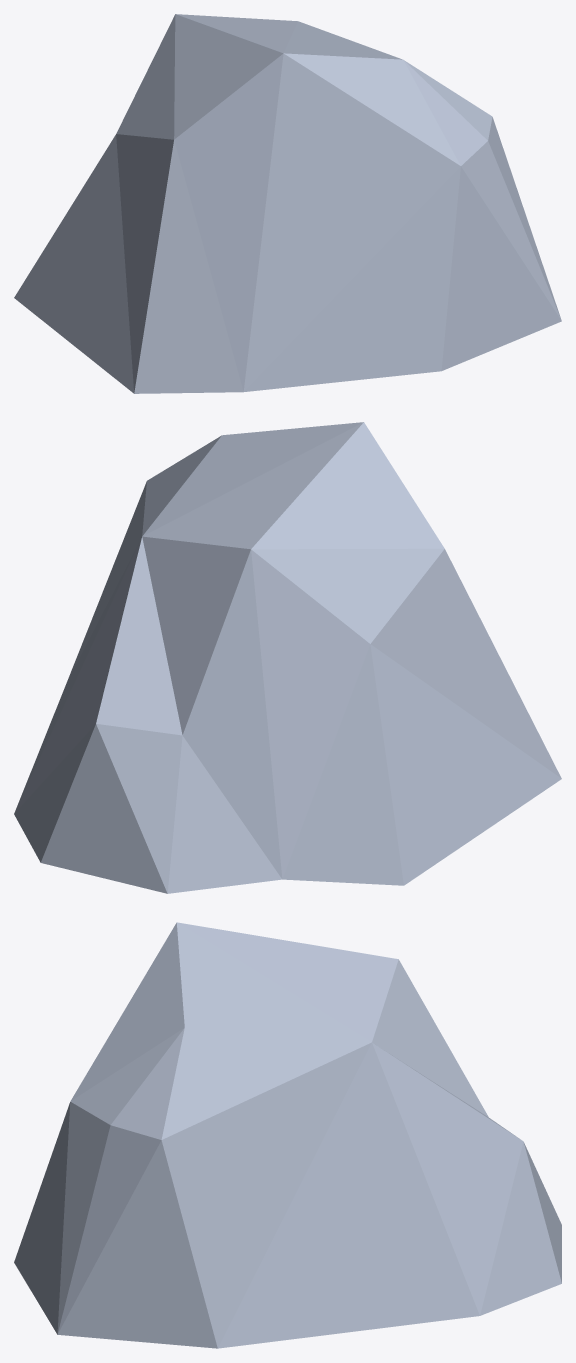
The model's file is rock2.fbx.
3 views of the same model, one above another, from view 1: azimuth 30°, elevation 25°; view 2: azimuth 150°, elevation 25°; view 3: azimuth 270°, elevation 25° (orthographic). The views are drawn at different scales.
Parts seen in each view (by area): view 1: Cube.004; view 2: Cube.004; view 3: Cube.004.
Part boxes in pixels (x1,y1,x2,y2): Cube.004: [14, 14, 561, 393]; Cube.004: [14, 422, 561, 893]; Cube.004: [14, 922, 561, 1348].
Size of the model in its own units: 152 by 104 by 166.
